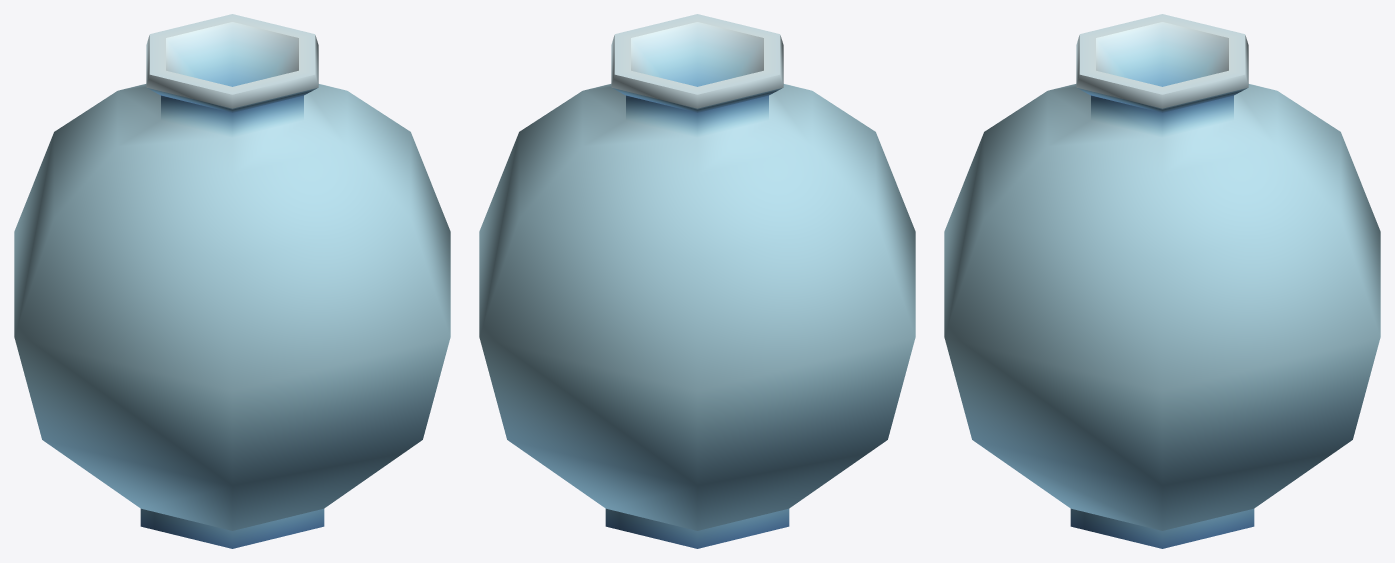
The model's file is SK_Porcelain_001.FBX.
3 renders of one model, left to right at view 1: azimuth 30°, elevation 25°; view 2: azimuth 150°, elevation 25°; view 3: azimuth 270°, elevation 25°, orthographic.
Visible parts, largest first — view 1: SK_Porcelain_001; view 2: SK_Porcelain_001; view 3: SK_Porcelain_001.
Boxes of the visible parts, x1,y1,x2,y2 form: SK_Porcelain_001: (14,14,450,548); SK_Porcelain_001: (479,14,915,548); SK_Porcelain_001: (944,14,1380,548).
Bounding box in the file's own units: 40.95 × 40.38 × 35.47.
Materials: 1 (1 with a texture image).
